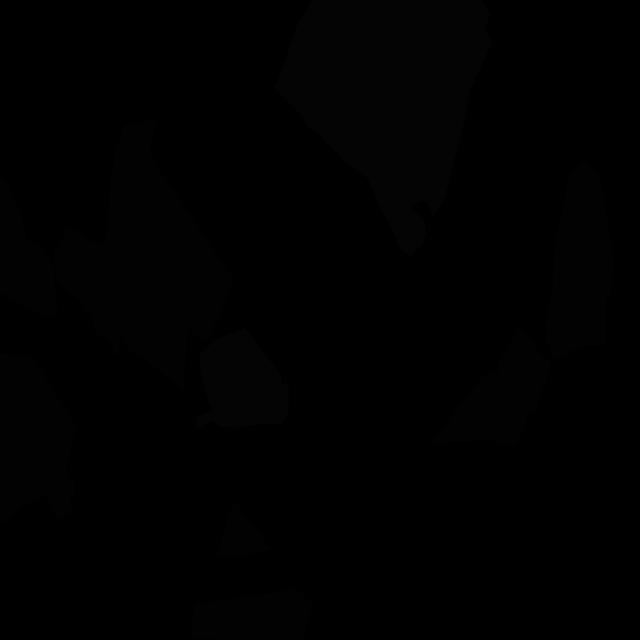cardboard: (54, 116, 232, 395), (432, 326, 552, 447), (544, 159, 614, 361), (0, 353, 76, 524), (0, 177, 58, 316), (190, 593, 276, 640), (216, 500, 272, 557), (271, 587, 313, 640)
soft_plastic: (273, 0, 492, 256), (195, 327, 289, 429)
